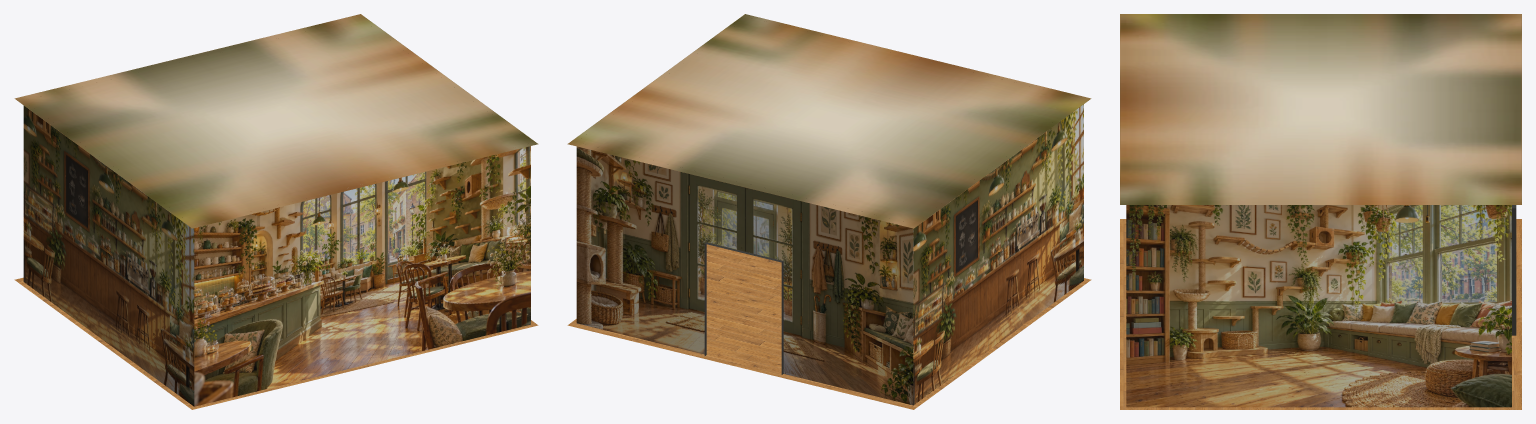
Rendered from cat-cafe.glb.
3 views of the same model, side by side, from view 1: azimuth 30°, elevation 25°; view 2: azimuth 150°, elevation 25°; view 3: azimuth 270°, elevation 25° (orthographic). The views are drawn at different scales.
Visible parts, largest first — view 1: Mural.cat-cafe.ceiling, Mural.cat-cafe.back, Mural.cat-cafe.right, Floor; view 2: Mural.cat-cafe.ceiling, Mural.cat-cafe.front, Mural.cat-cafe.right, Floor, Trim; view 3: Mural.cat-cafe.left, Mural.cat-cafe.ceiling, Floor, Trim.
Part boxes in pixels (x1,y1,x2,y2): Mural.cat-cafe.ceiling: [14, 14, 538, 228]; Mural.cat-cafe.back: [194, 146, 530, 406]; Mural.cat-cafe.right: [23, 105, 194, 406]; Floor: [14, 277, 538, 409]; Mural.cat-cafe.ceiling: [567, 14, 1091, 228]; Mural.cat-cafe.front: [576, 146, 913, 405]; Mural.cat-cafe.right: [913, 104, 1083, 405]; Floor: [567, 244, 1091, 409]; Trim: [704, 242, 783, 374]; Mural.cat-cafe.left: [1126, 205, 1511, 407]; Mural.cat-cafe.ceiling: [1120, 14, 1521, 204]; Floor: [1120, 219, 1521, 409]; Trim: [1512, 205, 1516, 335].
Size of the model in its own units: 9 by 4.5 by 8.
7 materials, 6 textured.
